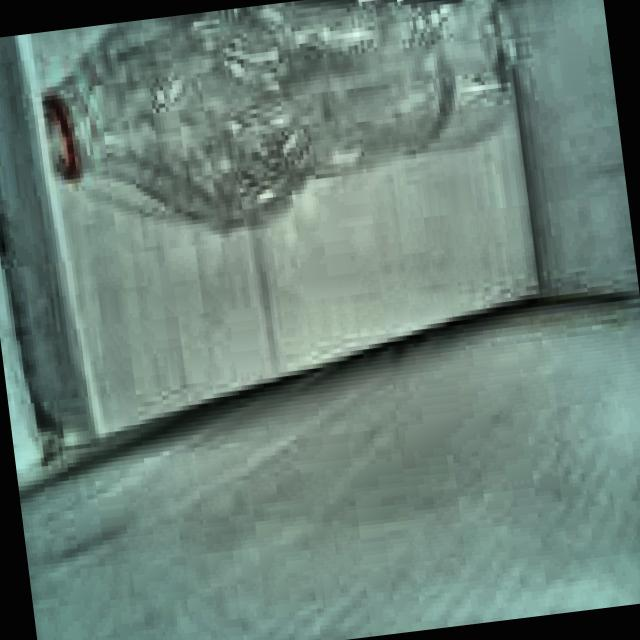plastic bottle: (42, 0, 507, 199)
